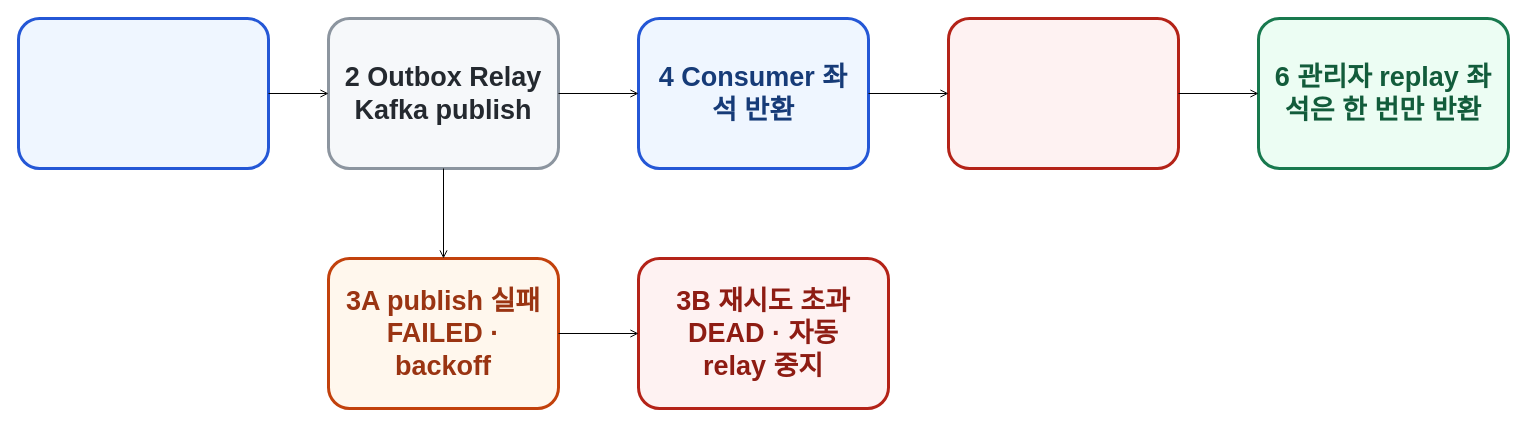
Image size: 1527x427. Some labels were removed from this diagram. The shapes that lost their labels are listed below. From the top down, each one's centre as x and y in pixels, then its label:
At point (143, 93): "1 취소 · 만료 Tx Outbox PENDING commit".
At point (1063, 93): "5 consumer 실패 DLT 격리".
